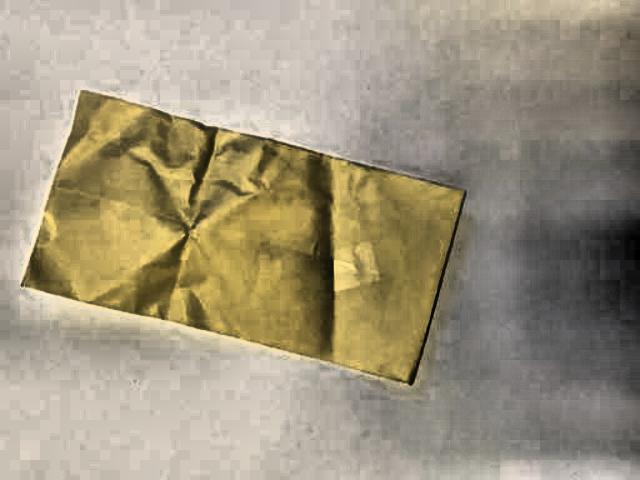Paper: (17, 81, 458, 379)
